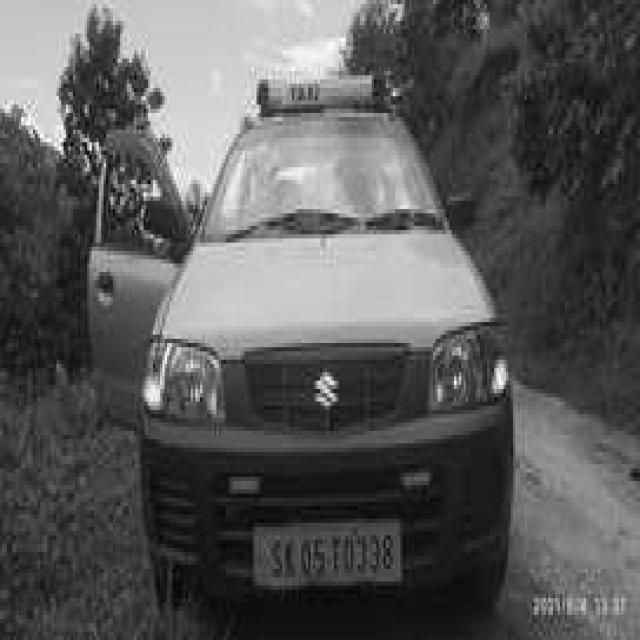car: (141, 88, 515, 623)
license-plate: (254, 523, 405, 585)
